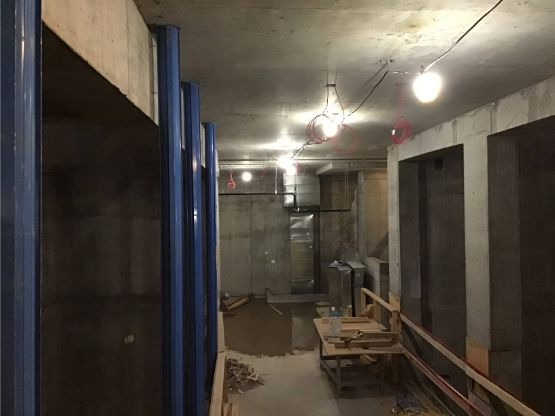Duct: (279, 149, 323, 298), (322, 252, 373, 321)
